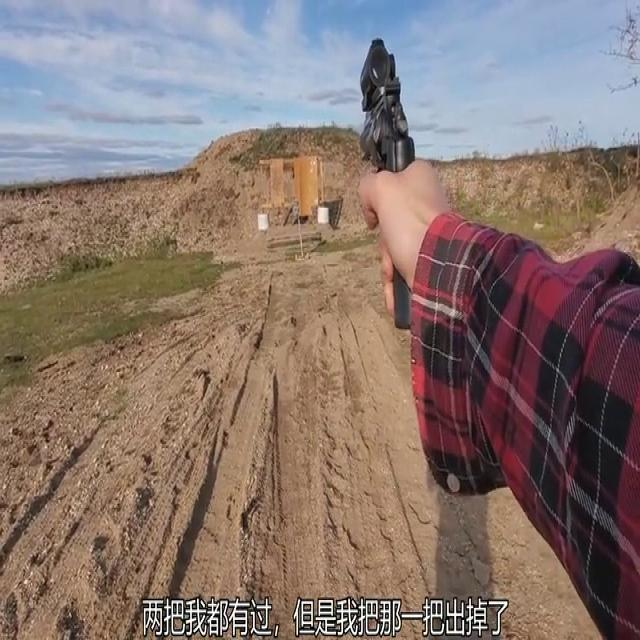gun-knife-thesis - v11 Yolov5 augmented: (321, 37, 469, 339)
